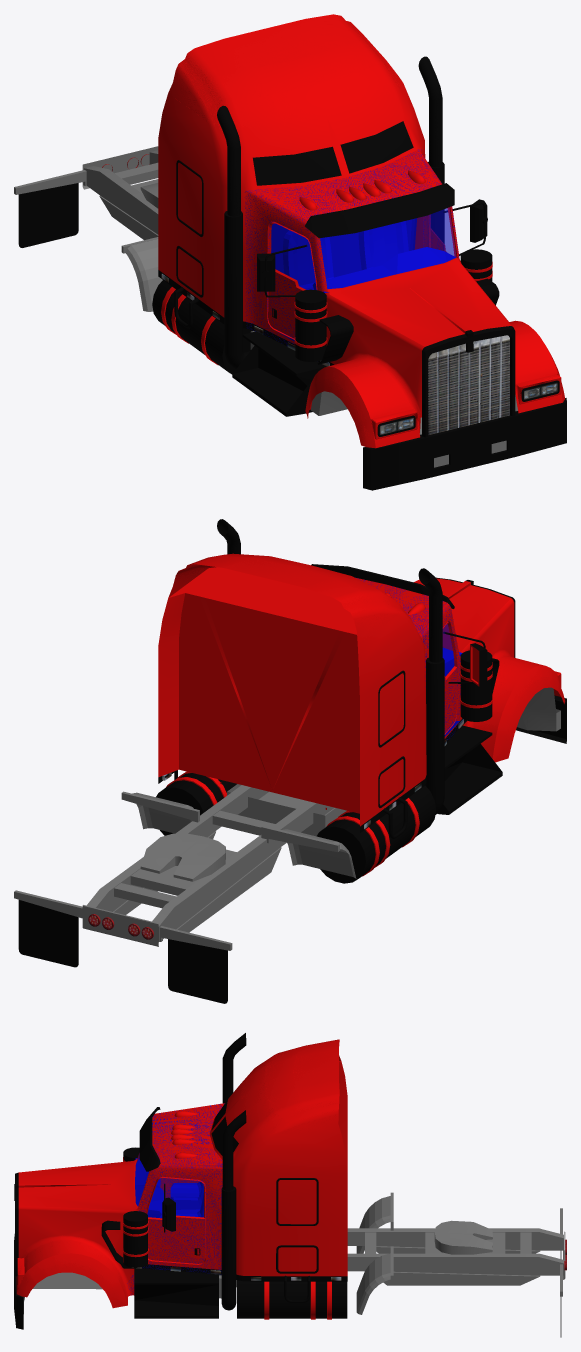
The model's file is Kenworth.fbx.
3 renders of one model, top to bottom at view 1: azimuth 30°, elevation 25°; view 2: azimuth 150°, elevation 25°; view 3: azimuth 270°, elevation 25°, orthographic. The views are drawn at different scales.
Parts seen in each view (by area): view 1: polySurface111; view 2: polySurface111; view 3: polySurface111.
Boxes of the visible parts, x1,y1,x2,y2 form: polySurface111: (14, 14, 566, 490); polySurface111: (14, 519, 566, 1003); polySurface111: (14, 1033, 566, 1337).
Bounding box in the file's own units: 1.36 × 1.69 × 3.61.
